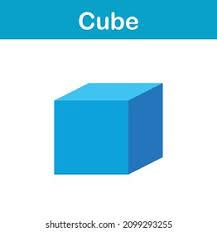cubos: (51, 78, 165, 179)
